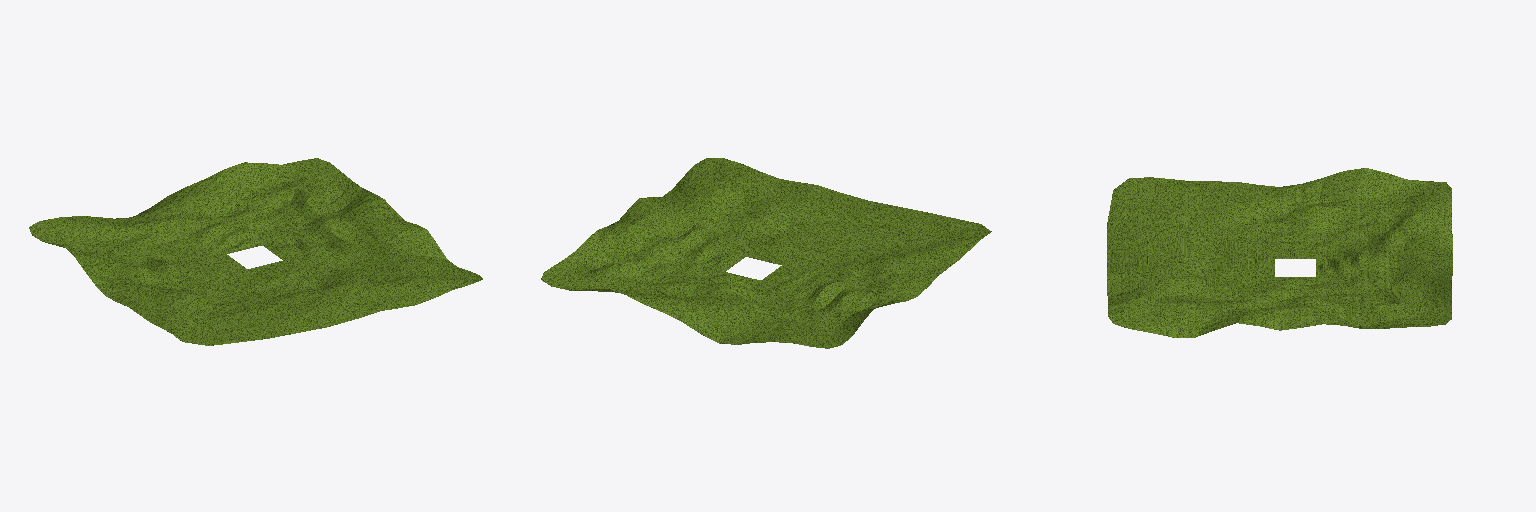
3 views of the same model, side by side, from view 1: azimuth 30°, elevation 25°; view 2: azimuth 150°, elevation 25°; view 3: azimuth 270°, elevation 25° (orthographic).
Visible parts, largest first — view 1: Object001; view 2: Object001; view 3: Object001.
Boxes of the visible parts, box(x1,y1,x2,y2) form: Object001: box(29, 158, 482, 345); Object001: box(541, 158, 991, 348); Object001: box(1107, 168, 1452, 337).
Size of the model in its own units: 7151 by 701 by 7150.
Materials: 1 (1 with a texture image).